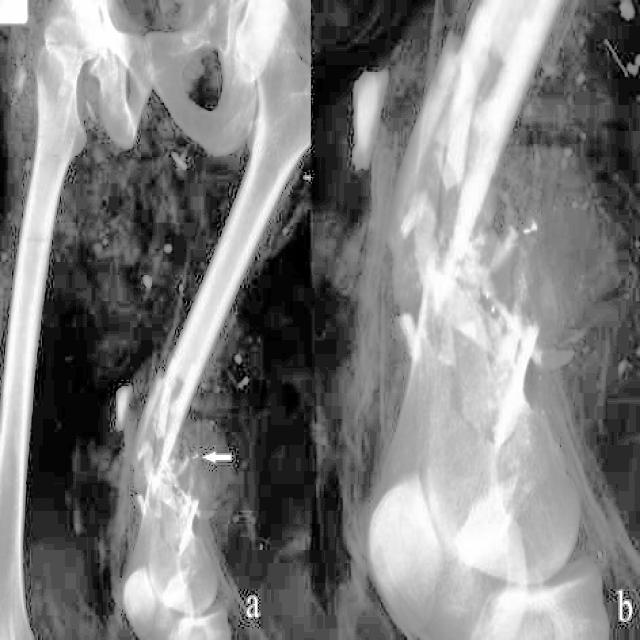Comminuted Fracture: (113, 371, 237, 526)
